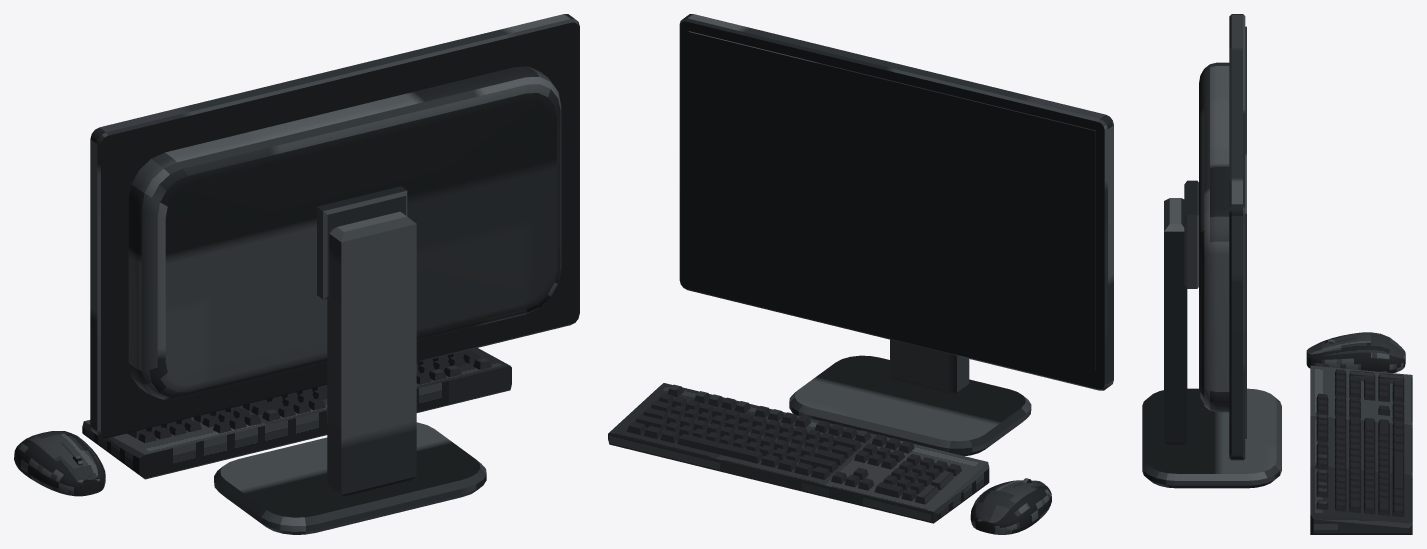
Rendered from office_computer_station.obj.
3 renders of one model, left to right at view 1: azimuth 30°, elevation 25°; view 2: azimuth 150°, elevation 25°; view 3: azimuth 270°, elevation 25°, orthographic. The views are drawn at different scales.
Visible parts, largest first — view 1: monitor_rear_housing, monitor_bezel, monitor_neck, monitor_base, keyboard_body, keyboard_keys, mouse_shell, monitor_hinge; view 2: monitor_screen, monitor_bezel, keyboard_keys, monitor_base, keyboard_body, mouse_shell, monitor_neck; view 3: monitor_rear_housing, monitor_base, keyboard_keys, keyboard_body, monitor_bezel, monitor_neck, mouse_shell, monitor_hinge, monitor_screen.
Part boxes in pixels (x1,y1,x2,y2): monitor_rear_housing: (128, 66, 561, 399); monitor_bezel: (90, 14, 579, 438); monitor_neck: (327, 211, 416, 496); monitor_base: (214, 422, 486, 534); keyboard_body: (82, 348, 511, 479); keyboard_keys: (127, 350, 491, 442); mouse_shell: (14, 431, 105, 496); monitor_hinge: (317, 186, 407, 299); monitor_screen: (688, 31, 1095, 370); monitor_bezel: (679, 14, 1113, 390); keyboard_keys: (626, 384, 961, 504); monitor_base: (789, 355, 1031, 456); keyboard_body: (608, 383, 989, 523); mouse_shell: (970, 480, 1051, 534); monitor_neck: (890, 339, 969, 394); monitor_rear_housing: (1199, 62, 1229, 412); monitor_base: (1142, 388, 1281, 488); keyboard_keys: (1316, 369, 1404, 516); keyboard_body: (1310, 365, 1412, 534); monitor_bezel: (1229, 14, 1245, 460); monitor_neck: (1164, 198, 1187, 444); mouse_shell: (1306, 332, 1405, 372); monitor_hinge: (1184, 180, 1198, 288); monitor_screen: (1245, 26, 1246, 438).
Bounding box in the file's own units: 1 × 0.7969 × 0.5813.
